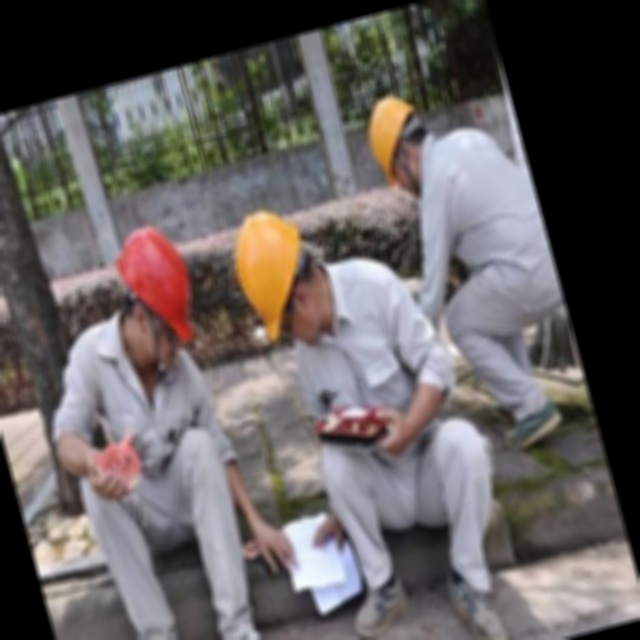Con_Casco: (222, 200, 339, 354), (357, 89, 440, 204)
